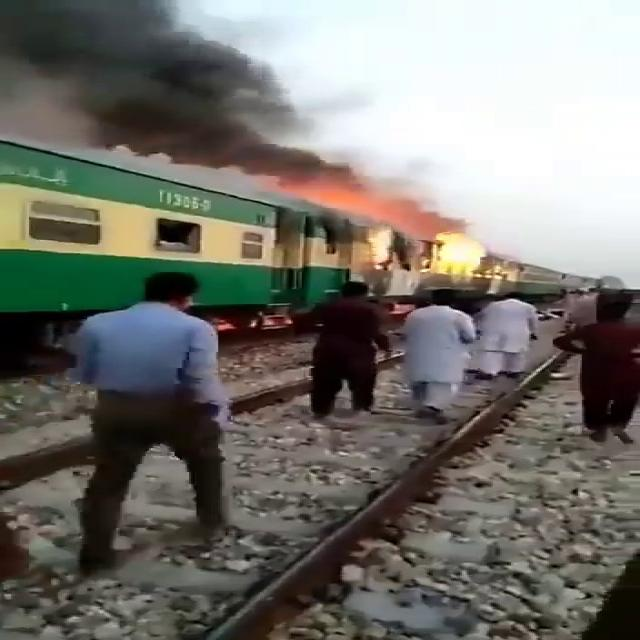Fire: (365, 225, 413, 279), (440, 236, 491, 277)
Smoke: (191, 156, 445, 241)
